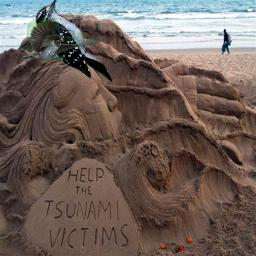Swallow: (23, 19, 102, 61)
Woodpecker: (34, 0, 114, 82)
